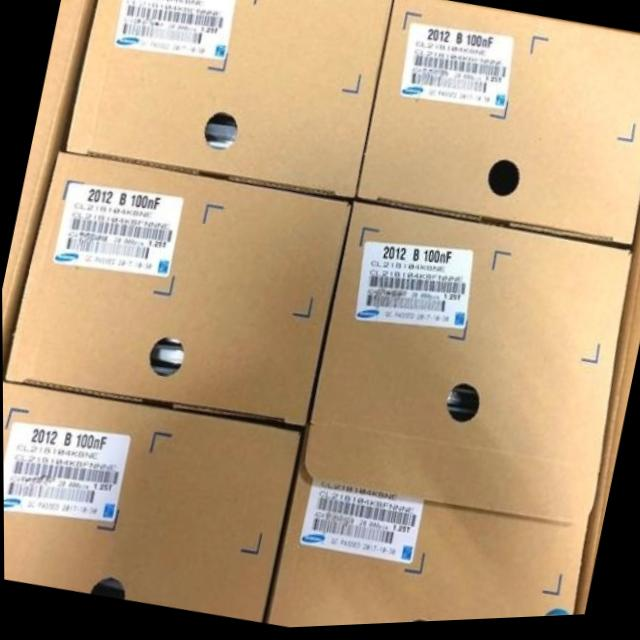box: (304, 202, 632, 531), (2, 150, 352, 430), (2, 379, 301, 625), (355, 0, 640, 252), (63, 0, 392, 203), (261, 431, 587, 630)
